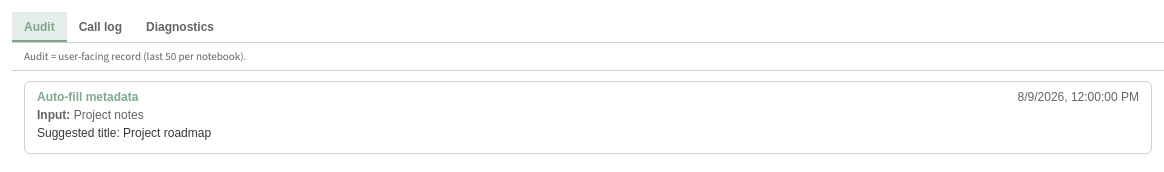
Test: AiHistoryPanel › K4: 7일 요약 카드 › hides the card entirely when the summary fetch fails
This screenshot has width=1164, height=172.
Click the tab "Call log". click: (100, 27)
box: top-left (67, 12), bottom-right (134, 42)
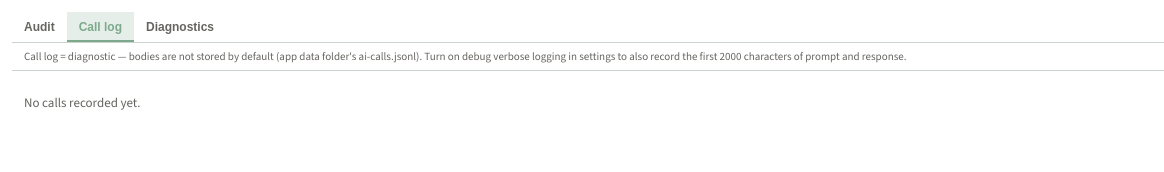
Check: the text "No calls recorded yet." is shown, box top-left (24, 94), bottom-right (140, 111)
